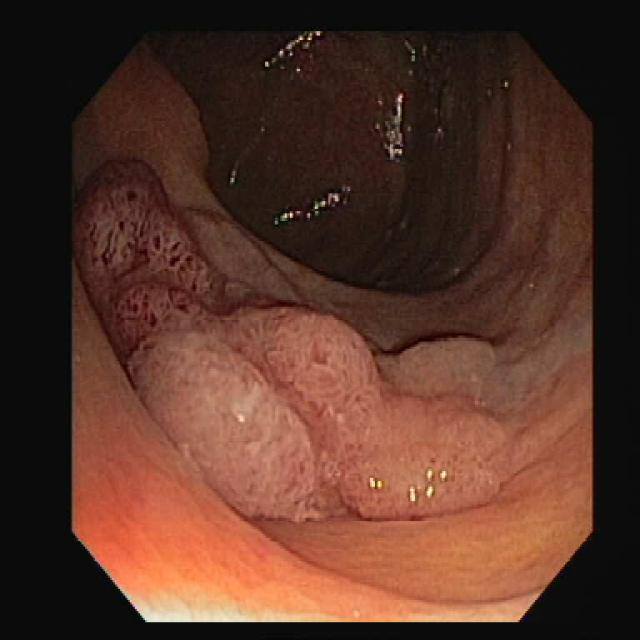tumor: (75, 160, 530, 513)
